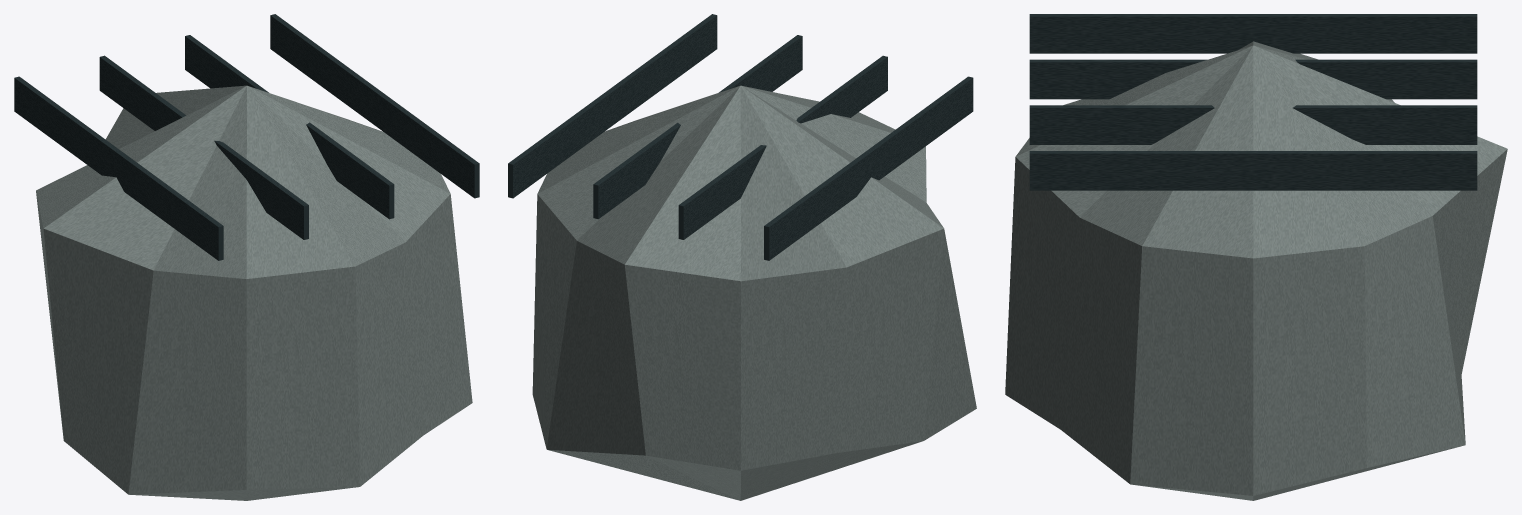
The model's file is scrith_outcrop_01.fbx.
3 renders of one model, left to right at view 1: azimuth 30°, elevation 25°; view 2: azimuth 150°, elevation 25°; view 3: azimuth 270°, elevation 25°, orthographic. The views are drawn at different scales.
Visible parts, largest first — view 1: scrith_outcrop_01_LOD0; view 2: scrith_outcrop_01_LOD0; view 3: scrith_outcrop_01_LOD0.
Part boxes in pixels (<box>): scrith_outcrop_01_LOD0: <box>14,14,479,500</box>; scrith_outcrop_01_LOD0: <box>508,14,976,500</box>; scrith_outcrop_01_LOD0: <box>1005,14,1507,500</box>.
Size of what is drawn, in the model's own units: 1 by 1 by 1.
